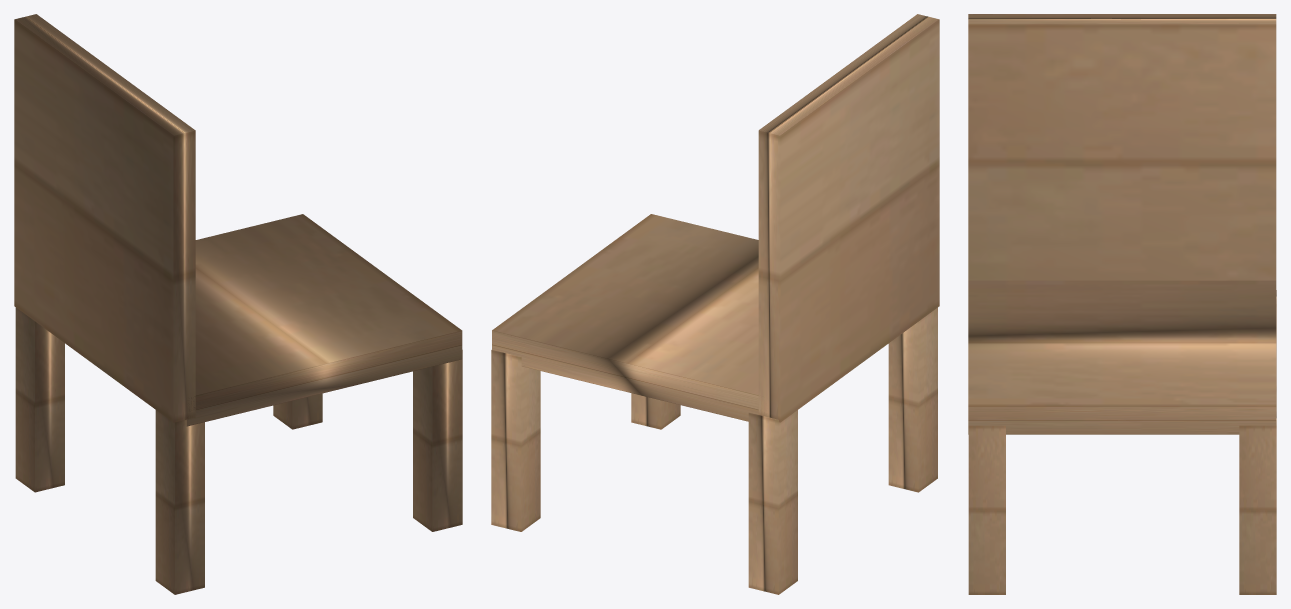
File: Chair.obj
3 views of the same model, side by side, from view 1: azimuth 30°, elevation 25°; view 2: azimuth 150°, elevation 25°; view 3: azimuth 270°, elevation 25° (orthographic). The views are drawn at different scales.
Visible parts, largest first — view 1: Cube.001; view 2: Cube.001; view 3: Cube.001.
Boxes of the visible parts, left/top/right/bottom form: Cube.001: left=14, top=14, right=462, bottom=594; Cube.001: left=491, top=14, right=939, bottom=594; Cube.001: left=968, top=14, right=1276, bottom=594.
Size of the model in its own units: 1.05 by 1.59 by 1.
